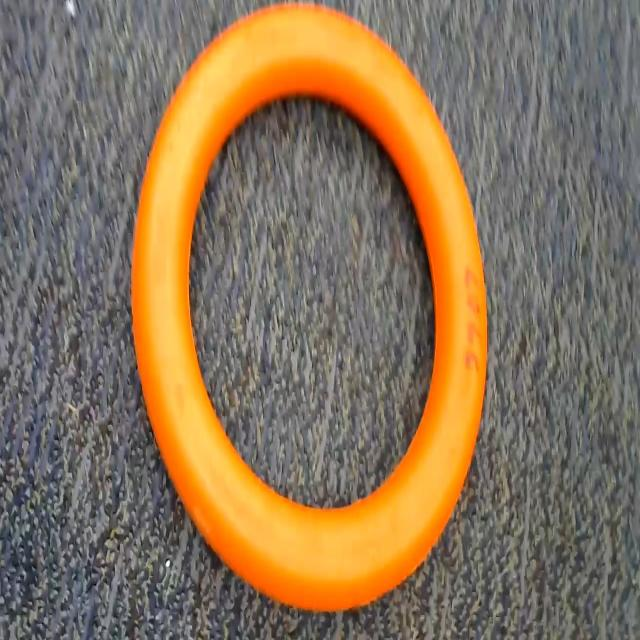note: (128, 0, 501, 622)
